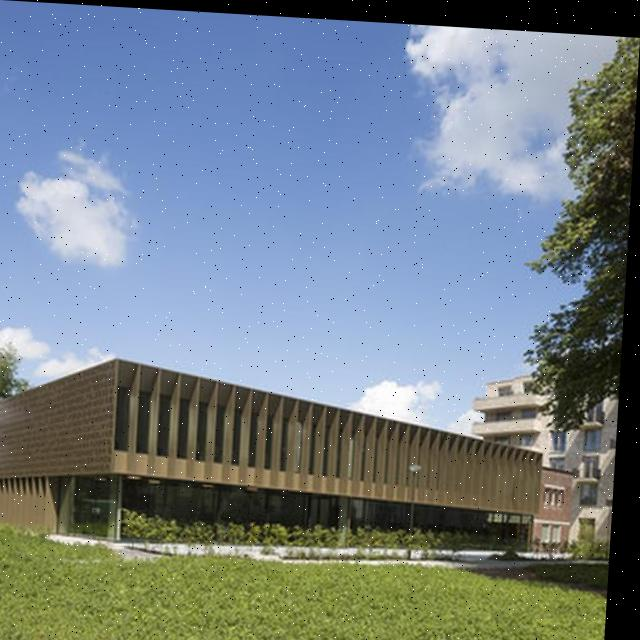building: (0, 351, 544, 571), (461, 366, 620, 568)
